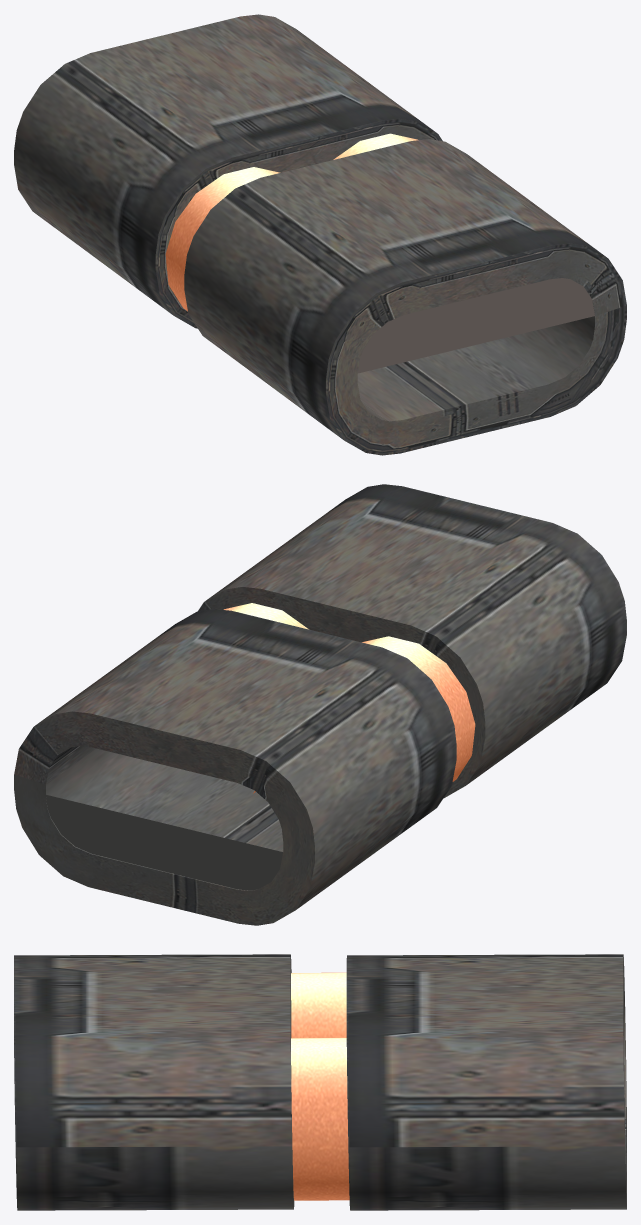
The model's file is heat-pipe-straight-vertical-single.glb.
The picture shows the model from 3 angles, top to bottom: view 1: azimuth 30°, elevation 25°; view 2: azimuth 150°, elevation 25°; view 3: azimuth 270°, elevation 25°; orthographic projection. The views are drawn at different scales.
Visible parts, largest first — view 1: heat-pipe-straight-vertical-single; view 2: heat-pipe-straight-vertical-single; view 3: heat-pipe-straight-vertical-single.
Part boxes in pixels (left/top/right/bottom): heat-pipe-straight-vertical-single: left=14, top=14, right=626, bottom=455; heat-pipe-straight-vertical-single: left=14, top=484, right=626, bottom=925; heat-pipe-straight-vertical-single: left=14, top=954, right=626, bottom=1210.
Bounding box in the file's own units: 0.3878 × 0.2136 × 0.7.
Materials: 2 (2 with a texture image).
